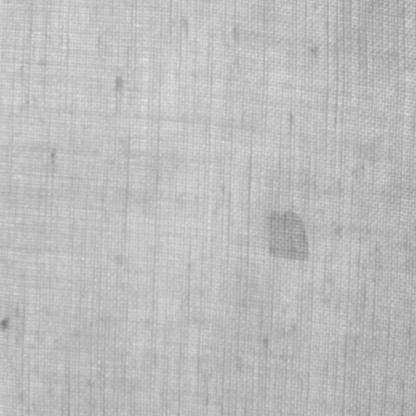oil spot: (265, 206, 309, 262)
